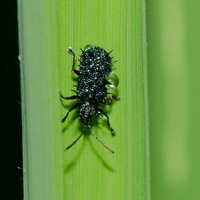insect: (60, 46, 119, 152)
